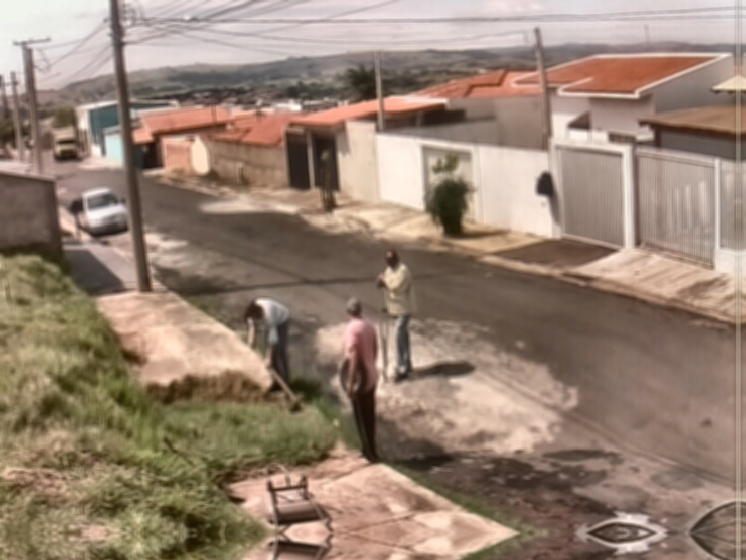person: (343, 296, 379, 465), (377, 249, 415, 382), (244, 298, 291, 391)
